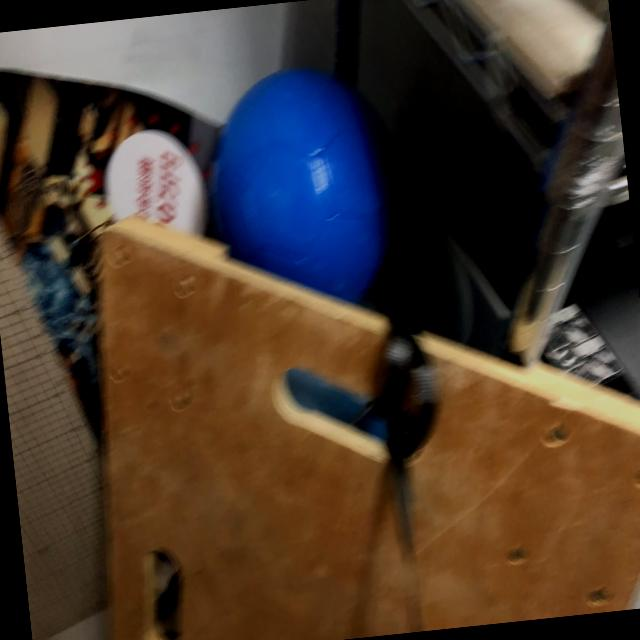blue_ball: (200, 56, 412, 320)
